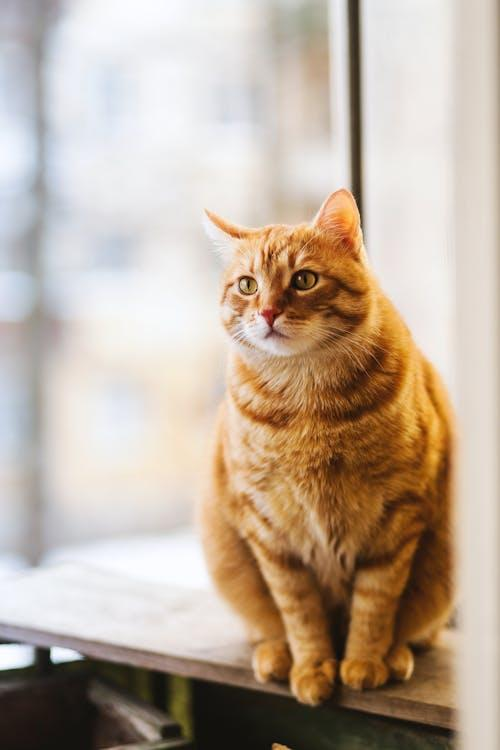kedo: (198, 187, 461, 709)
